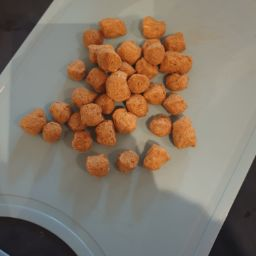Glycine max(soyabean): (39, 23, 209, 172), (96, 48, 168, 130), (136, 138, 176, 176), (135, 9, 170, 46), (96, 13, 135, 43), (79, 151, 115, 182), (169, 116, 198, 154), (115, 145, 142, 181), (15, 107, 47, 136), (81, 20, 107, 52), (114, 105, 138, 136), (151, 108, 172, 142), (41, 122, 65, 146)
